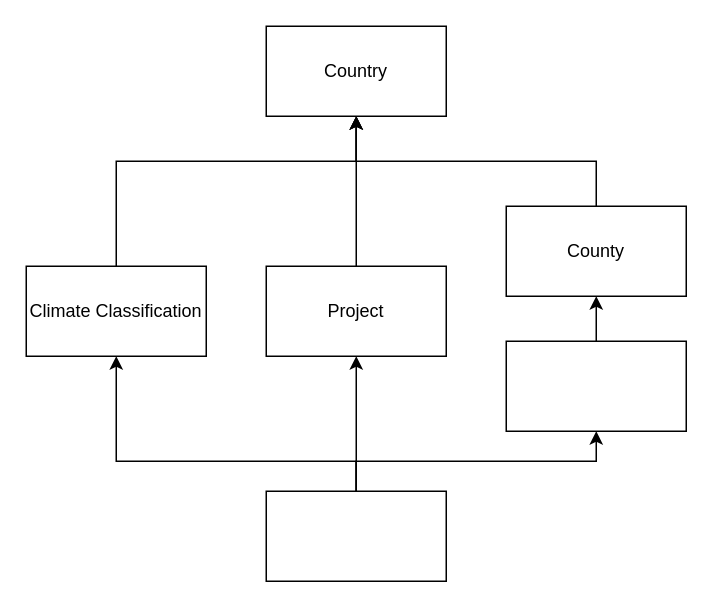
The diagram is 713 pixels wide and 608 high, and some of its shapes have lost their labels. The centre of each missing label's shape, as x and y in pixels:
"Household" goes at (355,535).
"Village" goes at (595,385).
